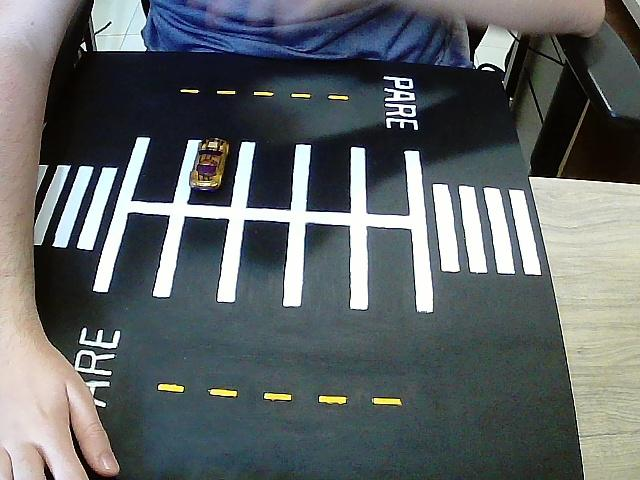Carro: (189, 138, 231, 193)
